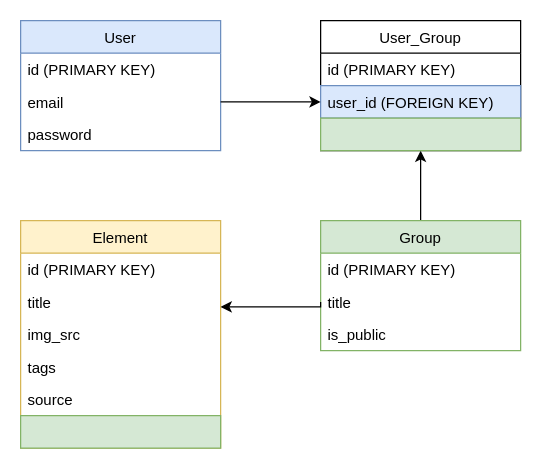
Image size: 541x469. Some labels were removed from this diagram. Here are the shapes that lost their labels. From the top down, the centre of each, then its label:
At point (420, 134): "group_id (FOREIGN KEY)".
At point (120, 431): "group_id (FOREIGN_KEY)".
